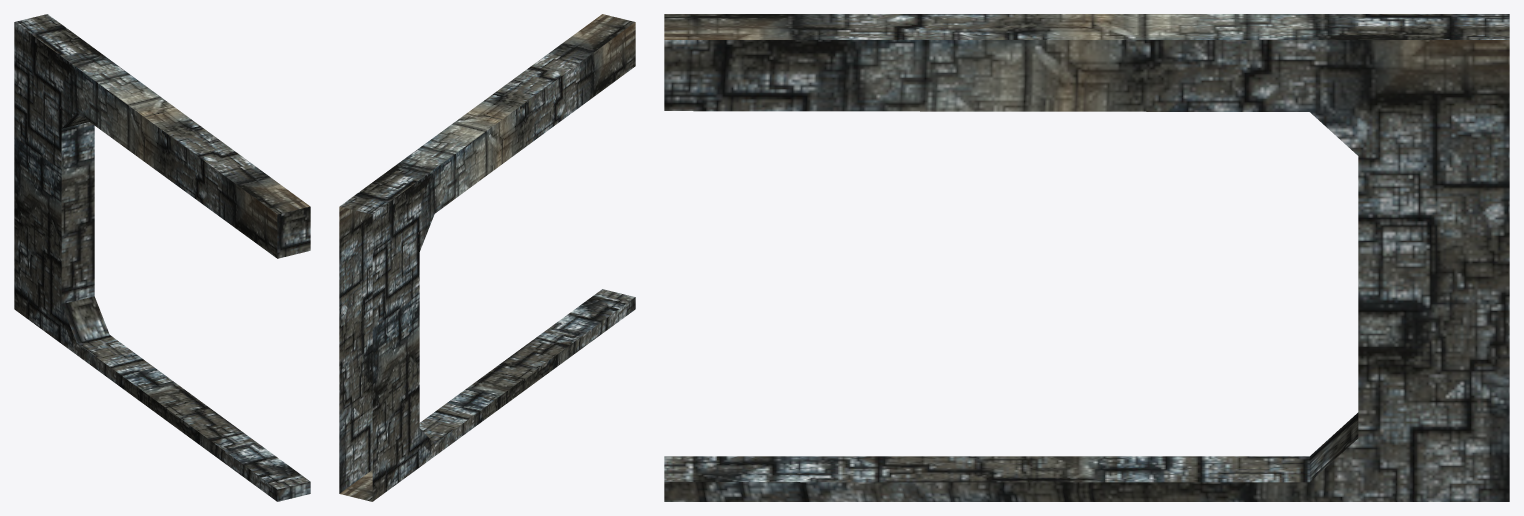
Rendered from block_5.FBX.
3 views of the same model, side by side, from view 1: azimuth 30°, elevation 25°; view 2: azimuth 150°, elevation 25°; view 3: azimuth 270°, elevation 25° (orthographic). The views are drawn at different scales.
Visible parts, largest first — view 1: Box003; view 2: Box003; view 3: Box003.
Boxes of the visible parts, bbox=[...] form: Box003: bbox=[14, 14, 310, 501]; Box003: bbox=[339, 14, 635, 501]; Box003: bbox=[664, 14, 1509, 501].
Bounding box in the file's own units: 26.78 × 223 × 369.
